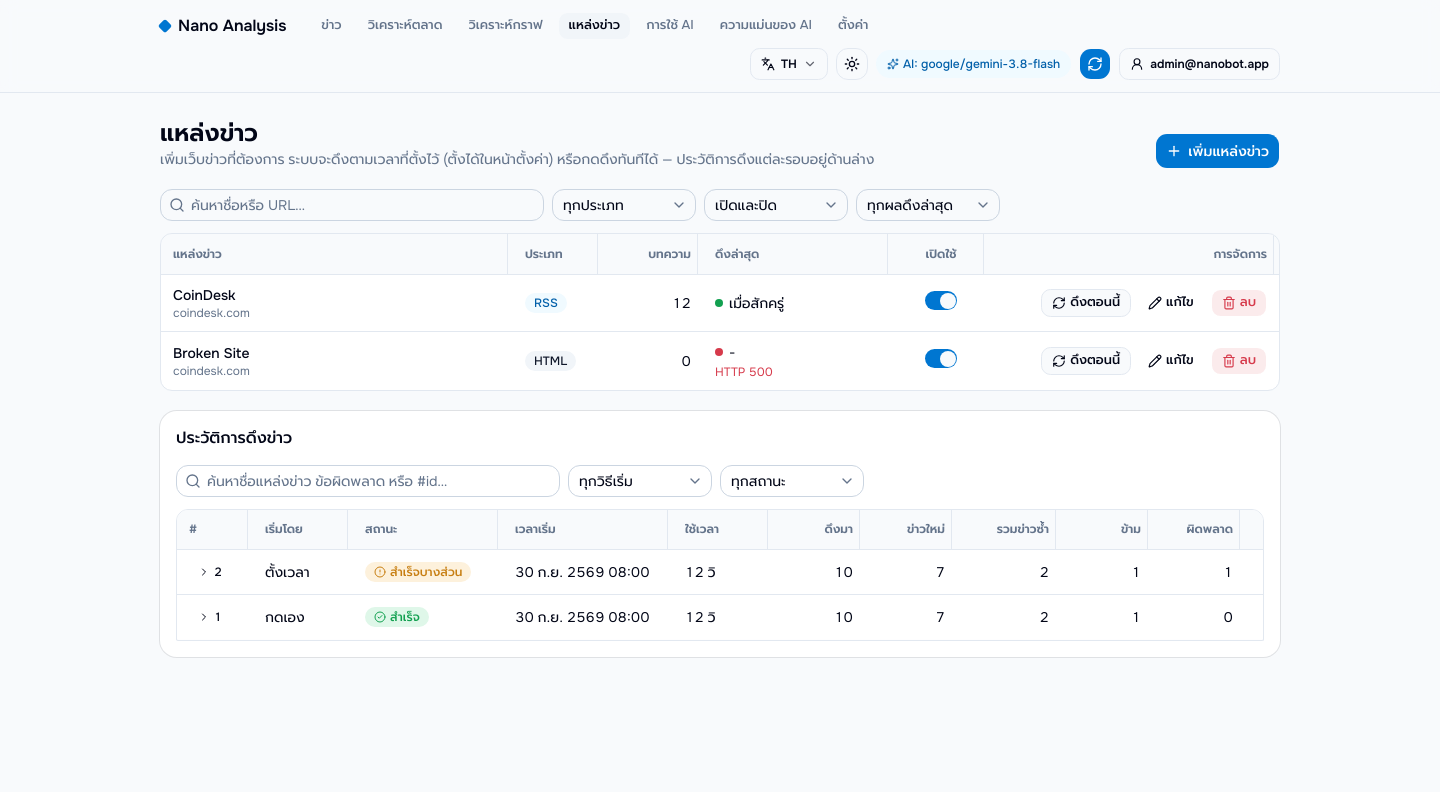
Test: SourcesPage › adds a source: detect the link, then save
Click the button "เพิ่มแหล่งข่าว".
click(1218, 151)  # box [1155,133,1280,169]
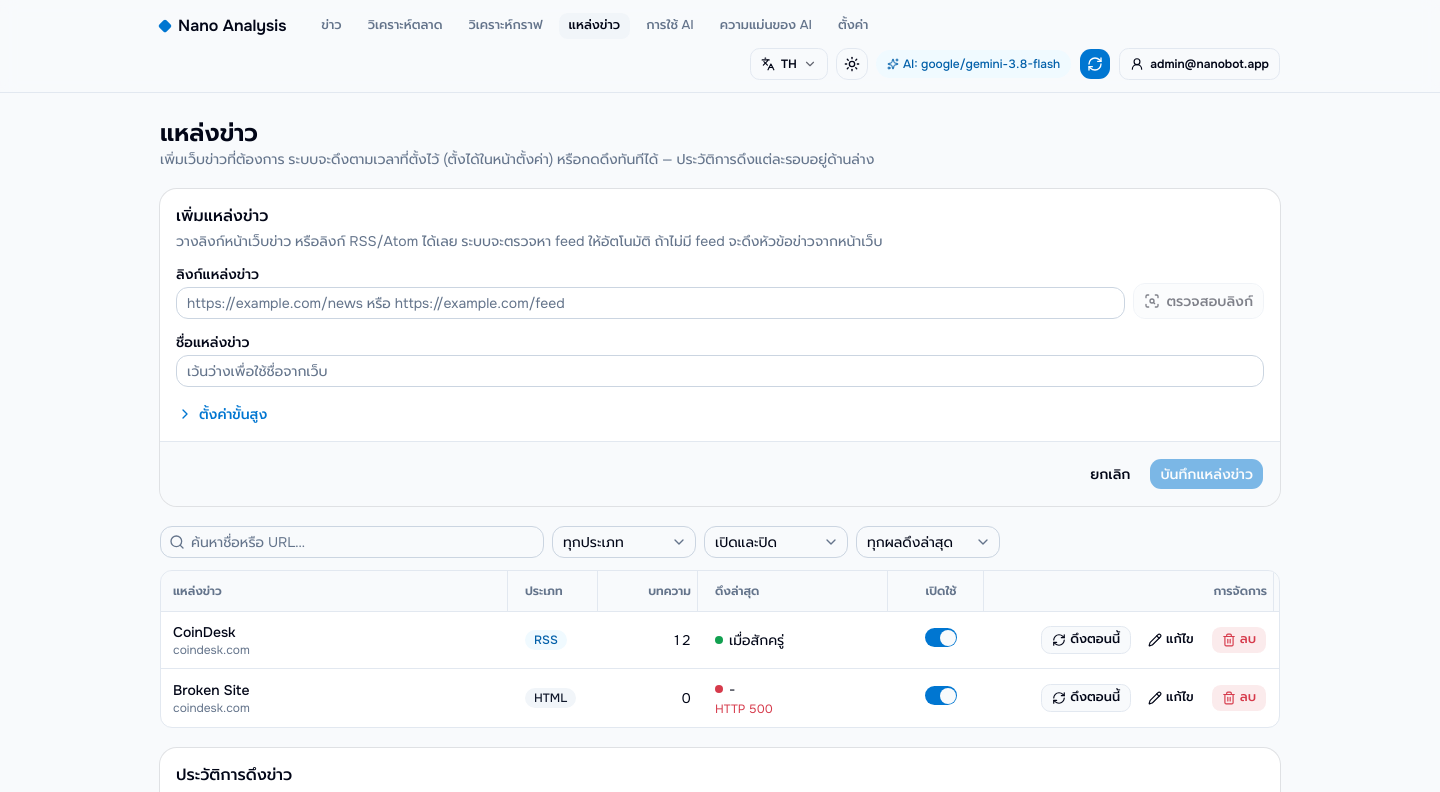
Type "https://decrypt.co" into the field labelled "ลิงก์แหล่งข่าว".
click(651, 303); type("https://decrypt.co")  # box [176,287,1126,319]
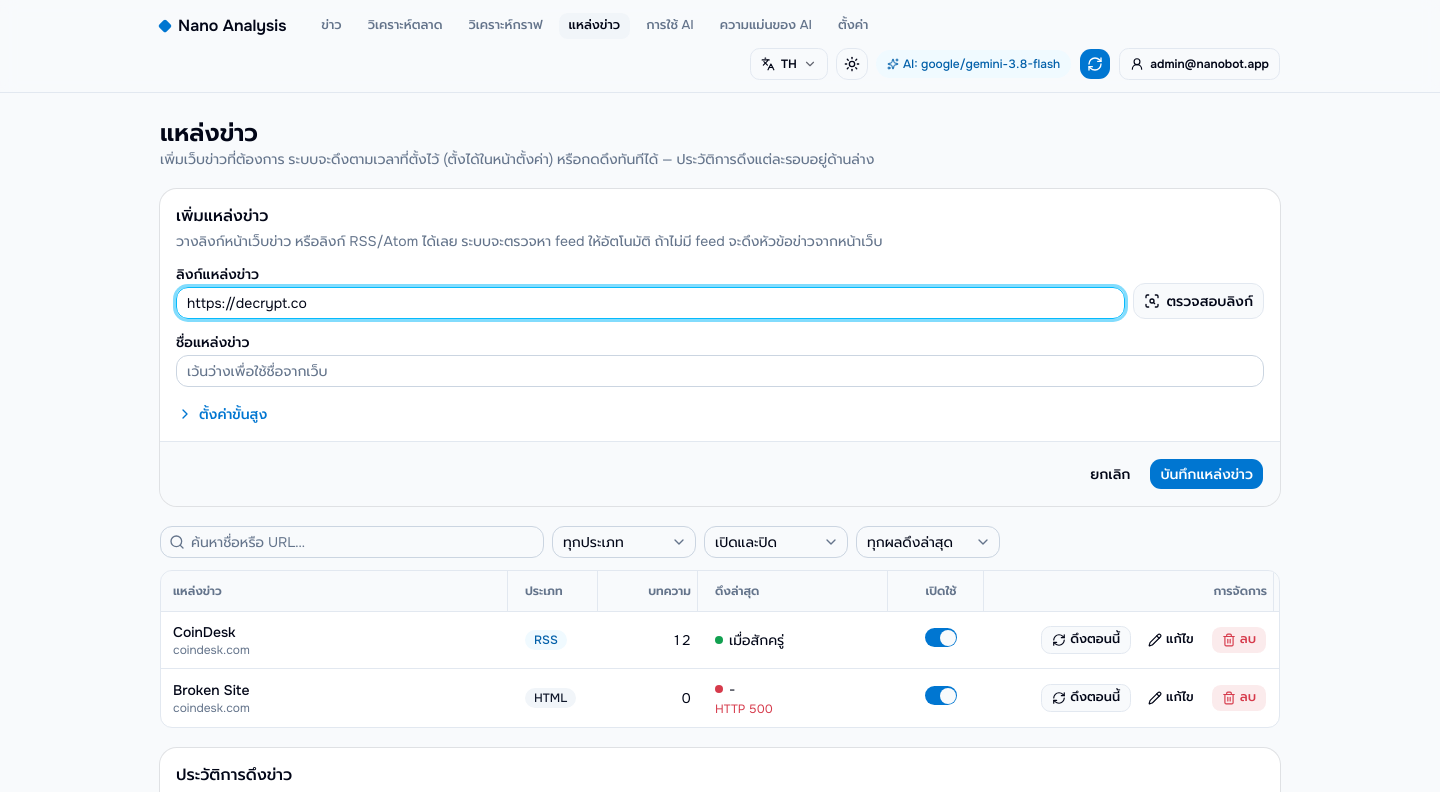
Click the button "ตรวจสอบลิงก์".
click(1199, 301)  # box [1134,283,1264,319]
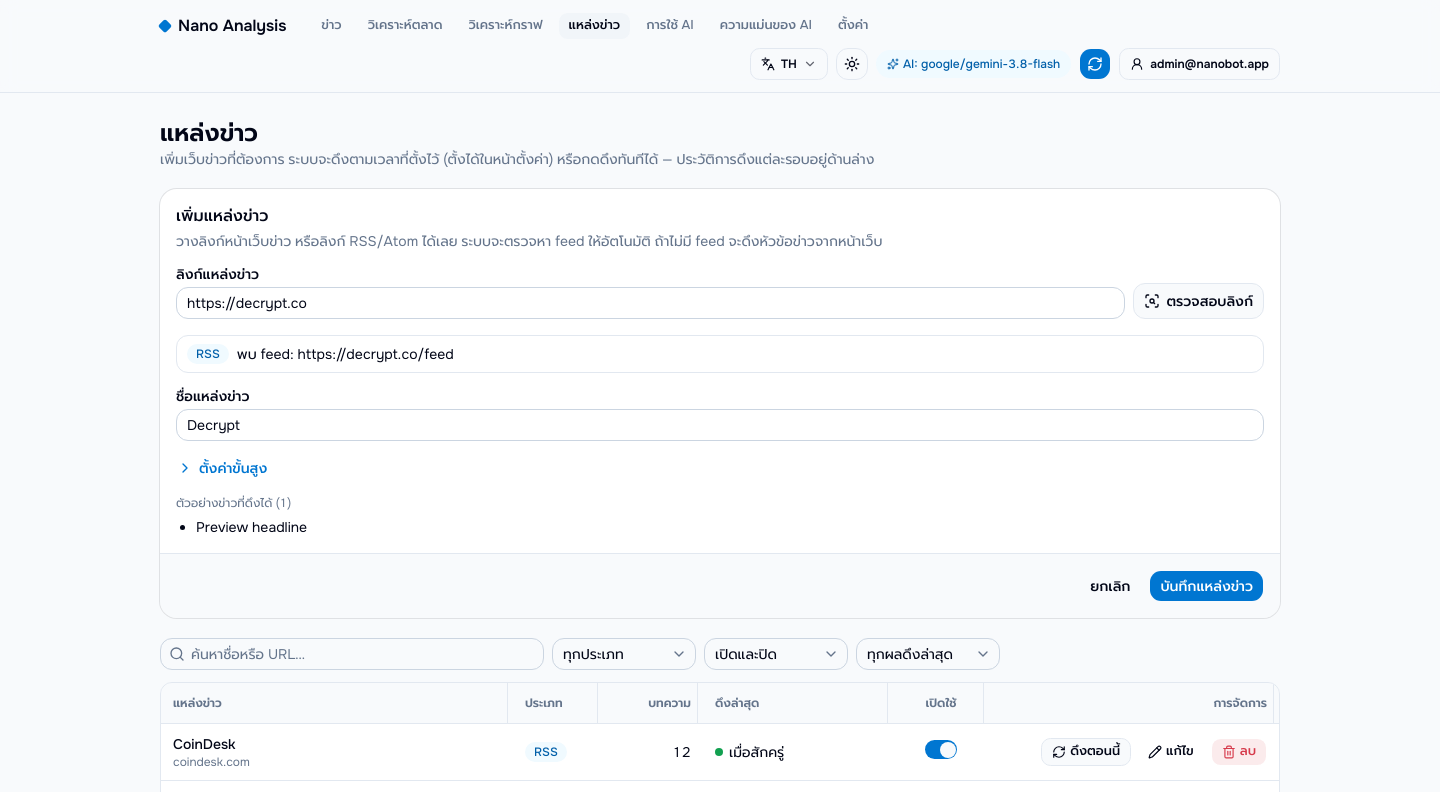
Expected: the text "พบ feed: https://decrypt.co/feed" is shown, [237,344,454,364]
Expected: the field labelled "ชื่อแหล่งข่าว" holds "Decrypt", [176,409,1264,441]
Expected: the link "Preview headline" is shown, [196,518,307,536]
Click the button "บันทึกแหล่งข่าว".
click(1207, 586)  # box [1149,570,1264,602]
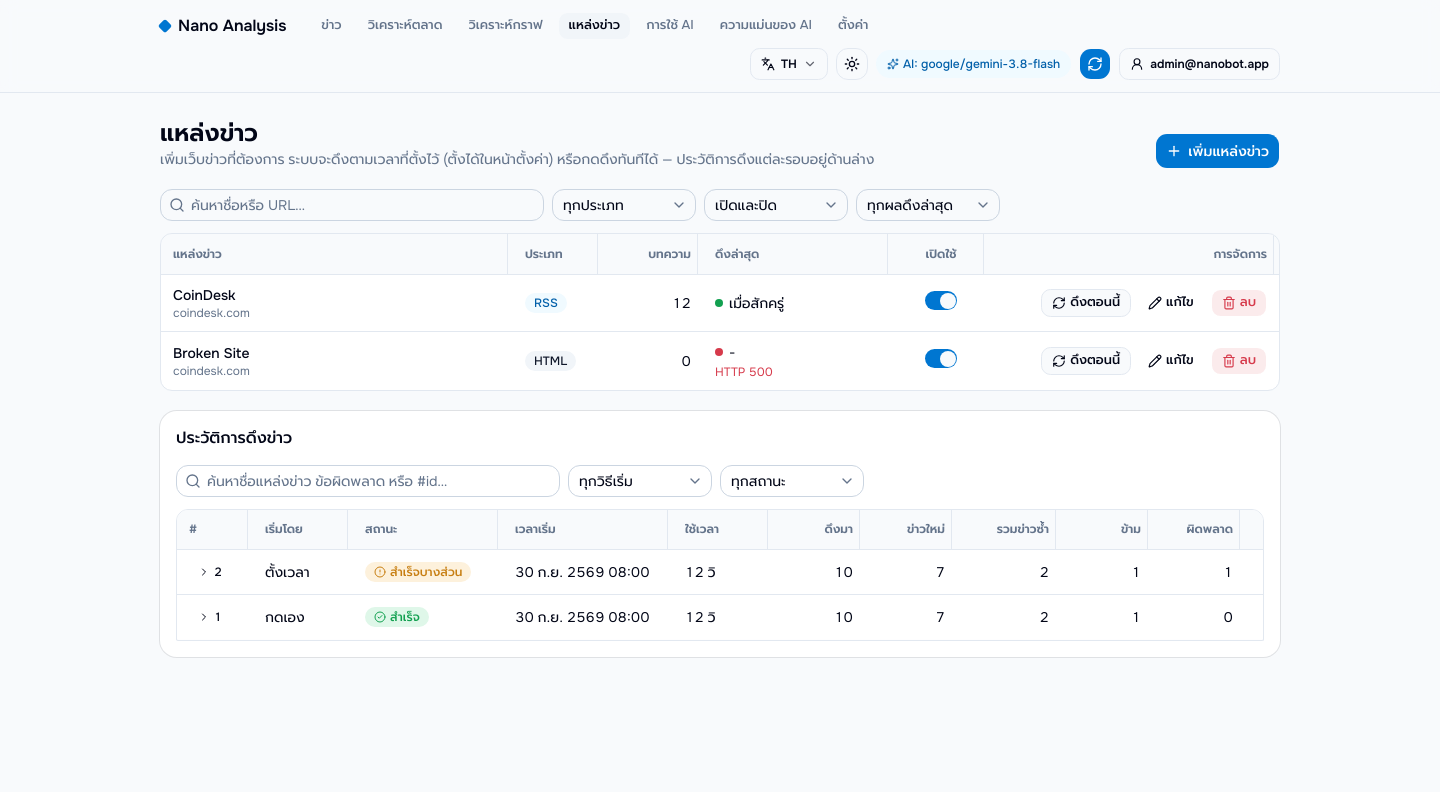
Expected: the form is gone
